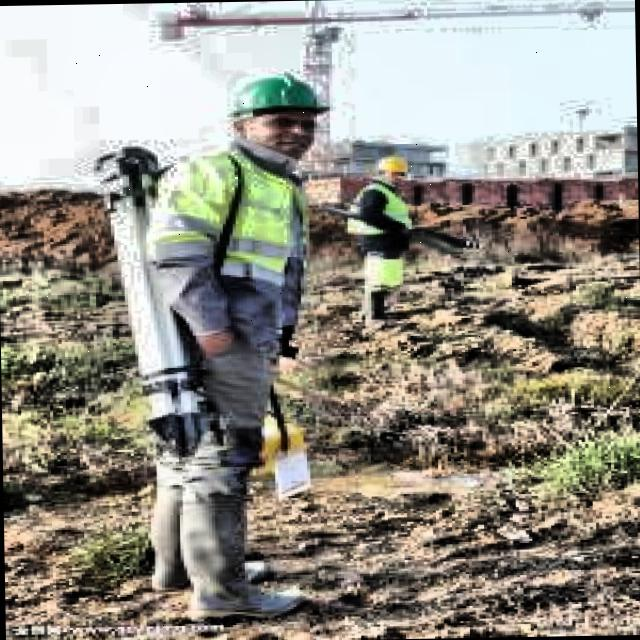helmet: (222, 68, 334, 164), (372, 150, 411, 184)
